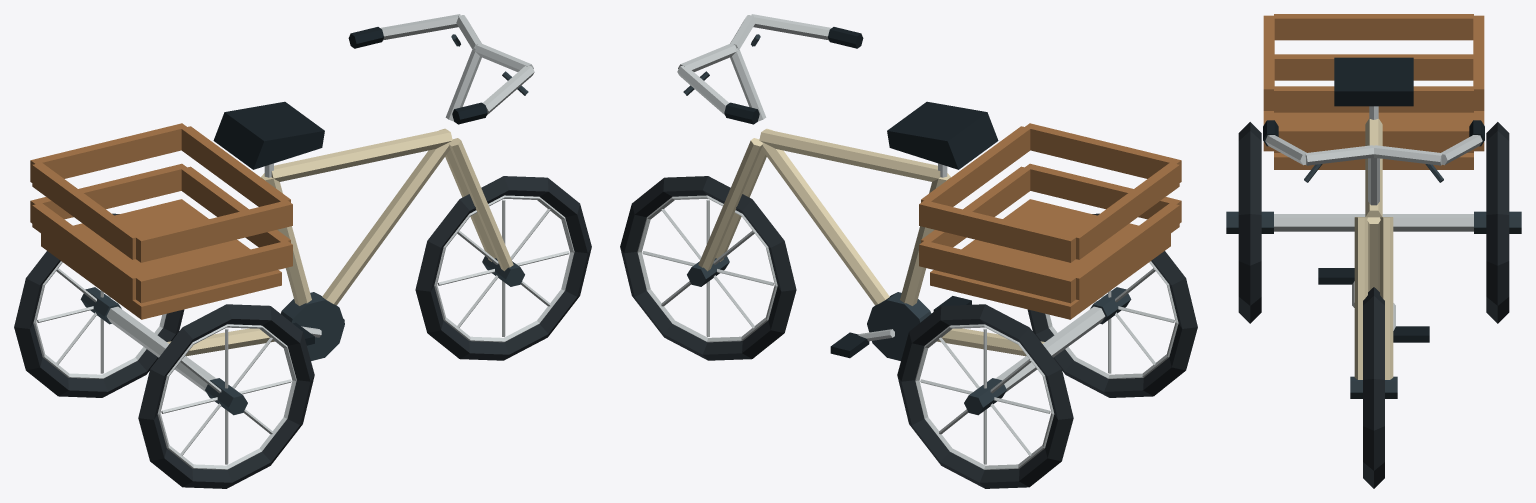
The model's file is b03_rear_basket_adult_tricycle.glb.
3 views of the same model, side by side, from view 1: azimuth 30°, elevation 25°; view 2: azimuth 150°, elevation 25°; view 3: azimuth 270°, elevation 25° (orthographic).
Visible parts, largest first — view 1: b03_rear_basket_adult_tricycle; view 2: b03_rear_basket_adult_tricycle; view 3: b03_rear_basket_adult_tricycle.
Boxes of the visible parts, left/top/right/bottom form: b03_rear_basket_adult_tricycle: left=14, top=14, right=591, bottom=488; b03_rear_basket_adult_tricycle: left=620, top=14, right=1197, bottom=488; b03_rear_basket_adult_tricycle: left=1226, top=14, right=1521, bottom=488.
Bounding box in the file's own units: 1.87 × 1.12 × 0.93.
